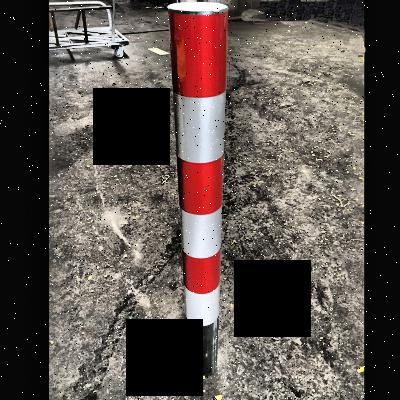bench: (162, 2, 235, 362)
